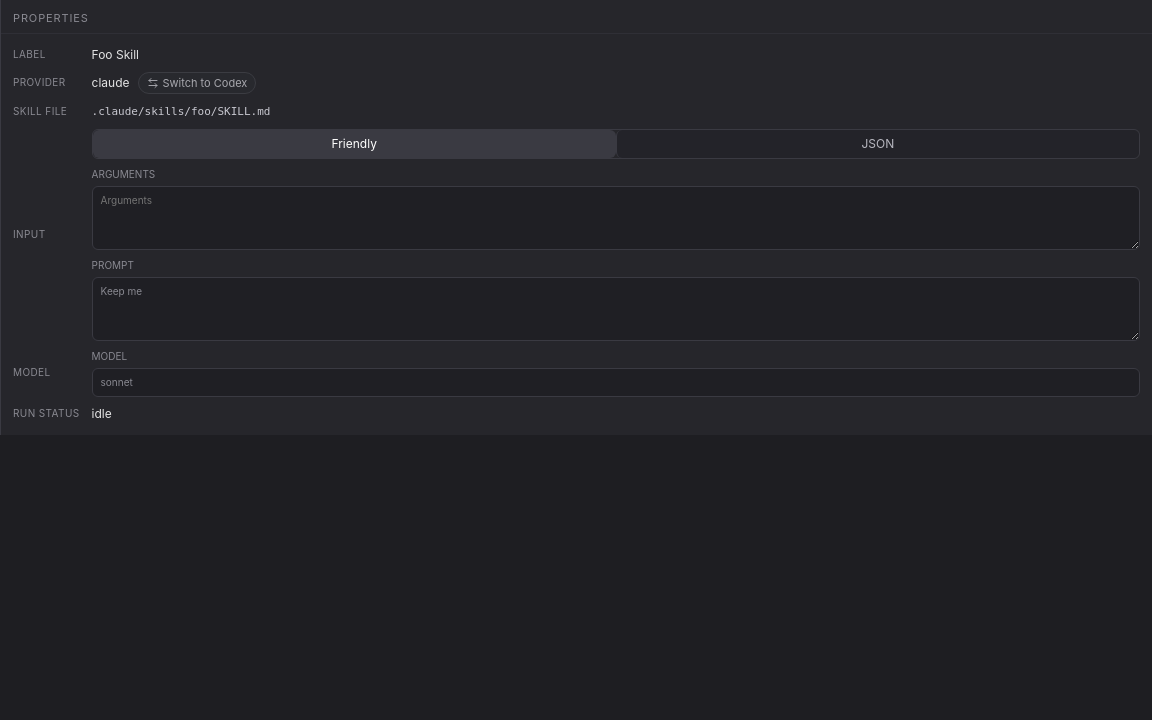
Test: PropertiesPanel › confirms provider change, moves the skill, and updates active node refs
The width and height of the screenshot is (1152, 720).
Step 1. Click the button with test id "node-provider-change" → {"x": 197, "y": 83}, box x1=138 y1=72 x2=256 y2=94
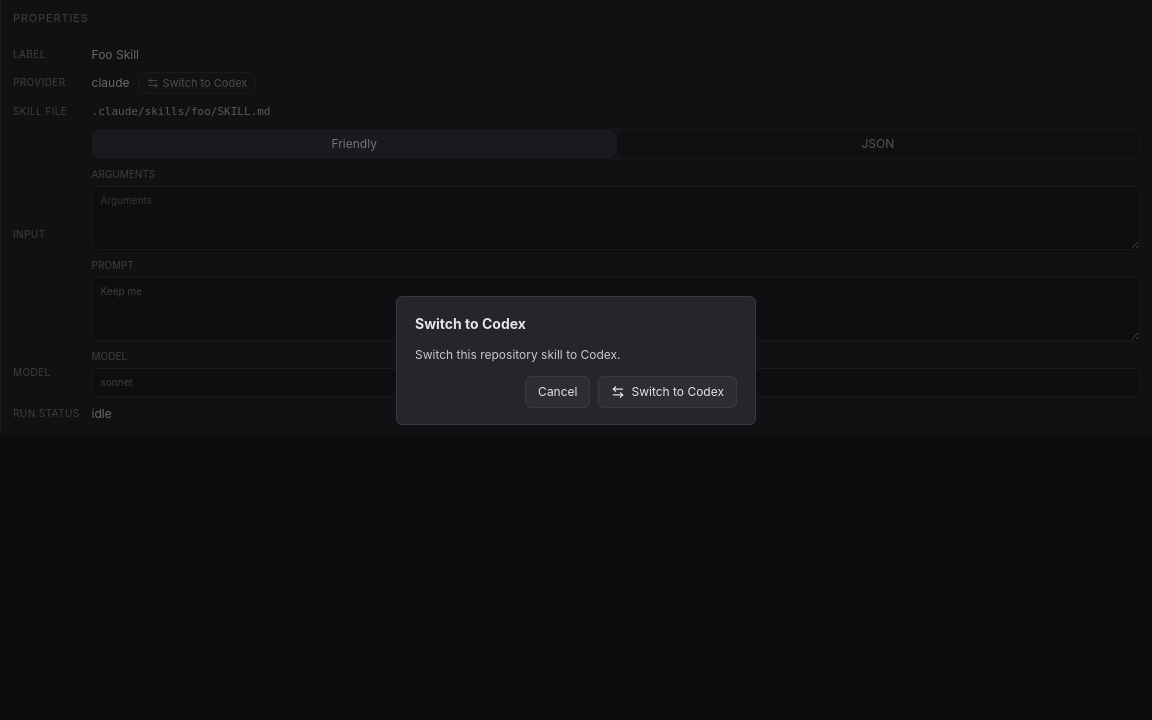
Expected: the dialog with test id "provider-change-confirm" does not show ".claude/skills/foo/SKILL.md", x1=396 y1=296 x2=756 y2=424
Result: the dialog with test id "provider-change-confirm" shows "Switch to Codex" at x1=415 y1=314 x2=526 y2=332
Result: the dialog with test id "provider-change-confirm" shows "Switch this repository skill to Codex." at x1=396 y1=296 x2=756 y2=424
Step 2. Click the button with test id "provider-change-confirm-change" → {"x": 668, "y": 392}, box x1=598 y1=376 x2=737 y2=408
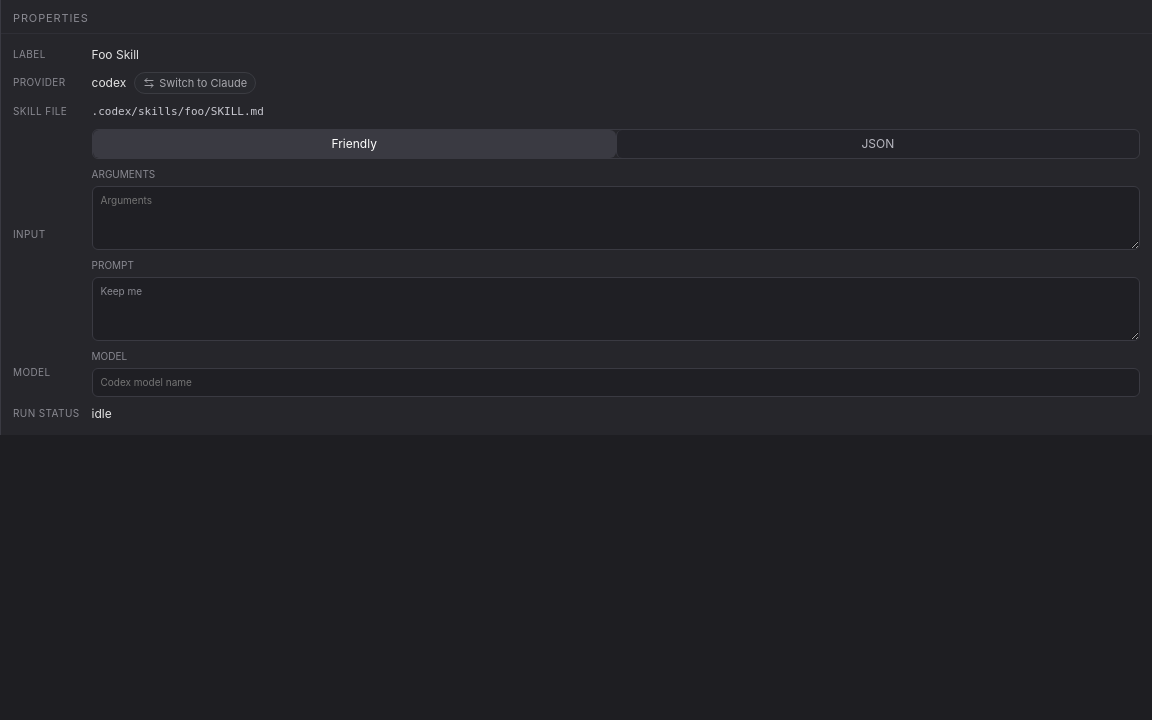
Result: the dialog with test id "provider-change-confirm" is gone
